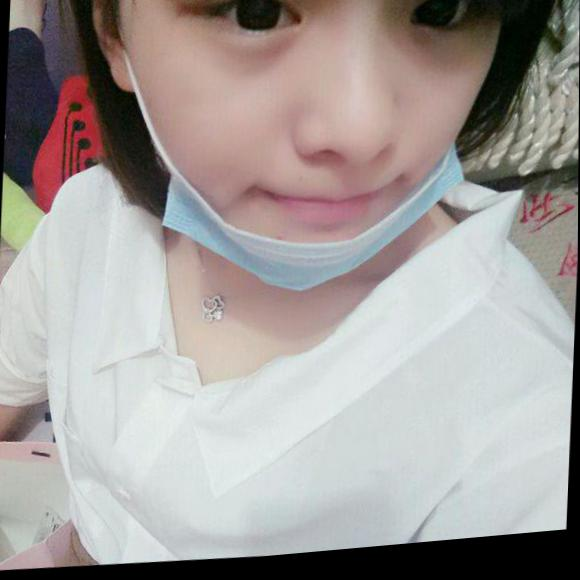WRONG: (111, 1, 507, 321)
